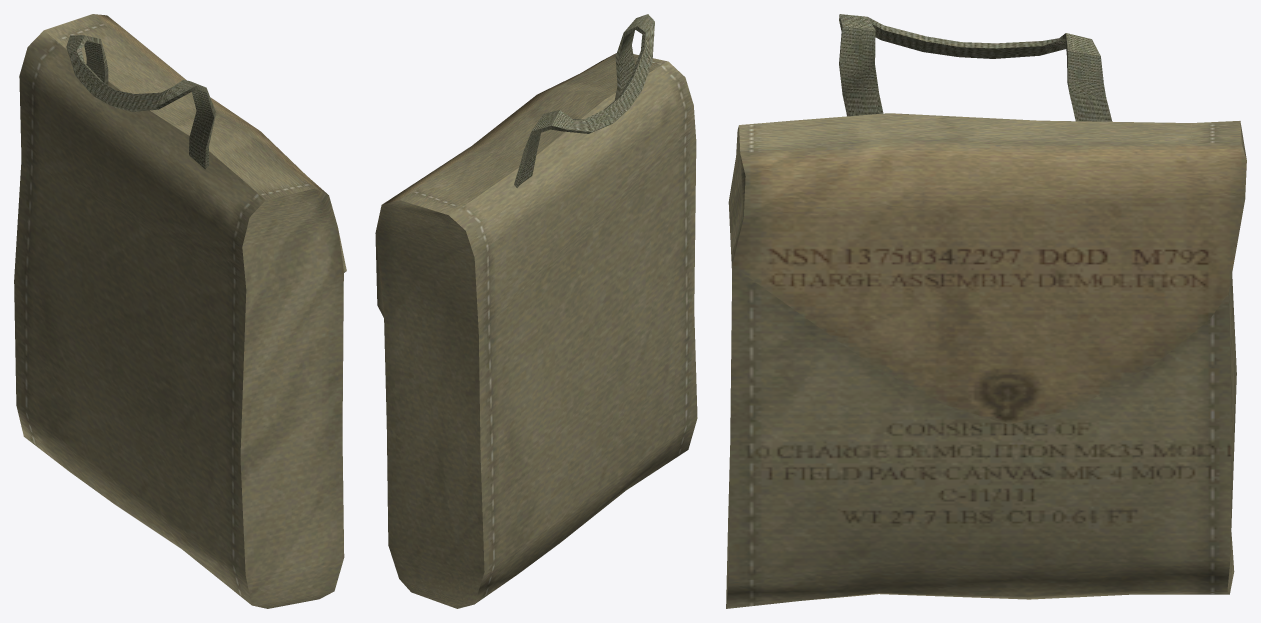
Rendered from stch_3rd.glb.
The picture shows the model from 3 angles, left to right: view 1: azimuth 30°, elevation 25°; view 2: azimuth 150°, elevation 25°; view 3: azimuth 270°, elevation 25°; orthographic projection. The views are drawn at different scales.
Parts seen in each view (by area): view 1: _stch_3rd; view 2: _stch_3rd; view 3: _stch_3rd.
Boxes of the visible parts, x1,y1,x2,y2 form: _stch_3rd: (14, 14, 346, 608); _stch_3rd: (375, 14, 697, 608); _stch_3rd: (726, 14, 1246, 608).
Bounding box in the file's own units: 0.0611 × 0.2066 × 0.1762.
1 material, 1 textured.
